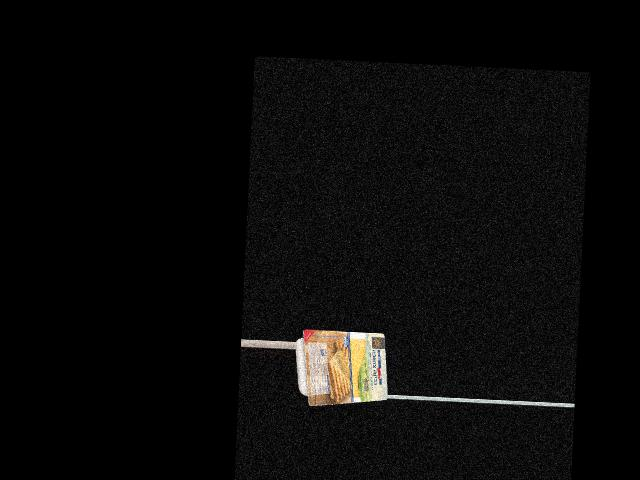cheese: (292, 332, 389, 407)
